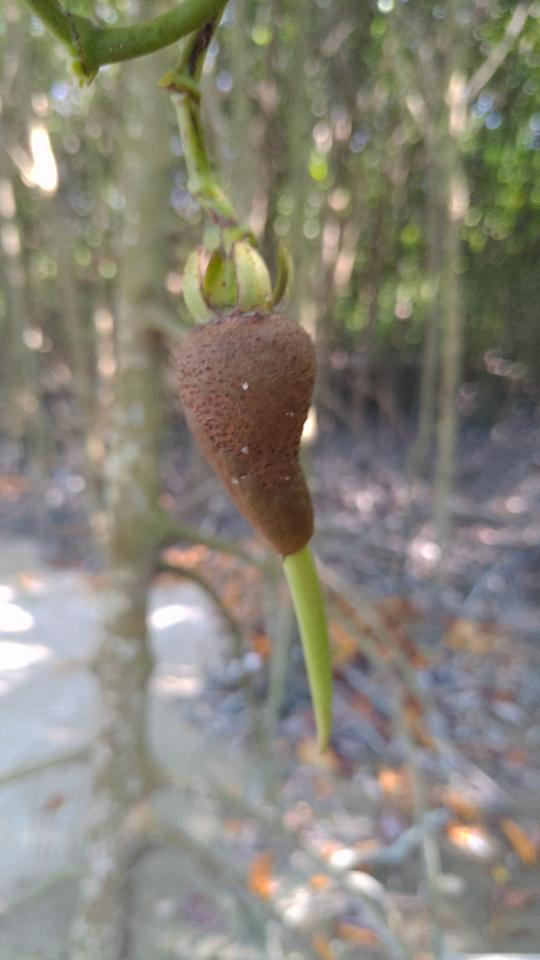mentah: (160, 221, 353, 763)
